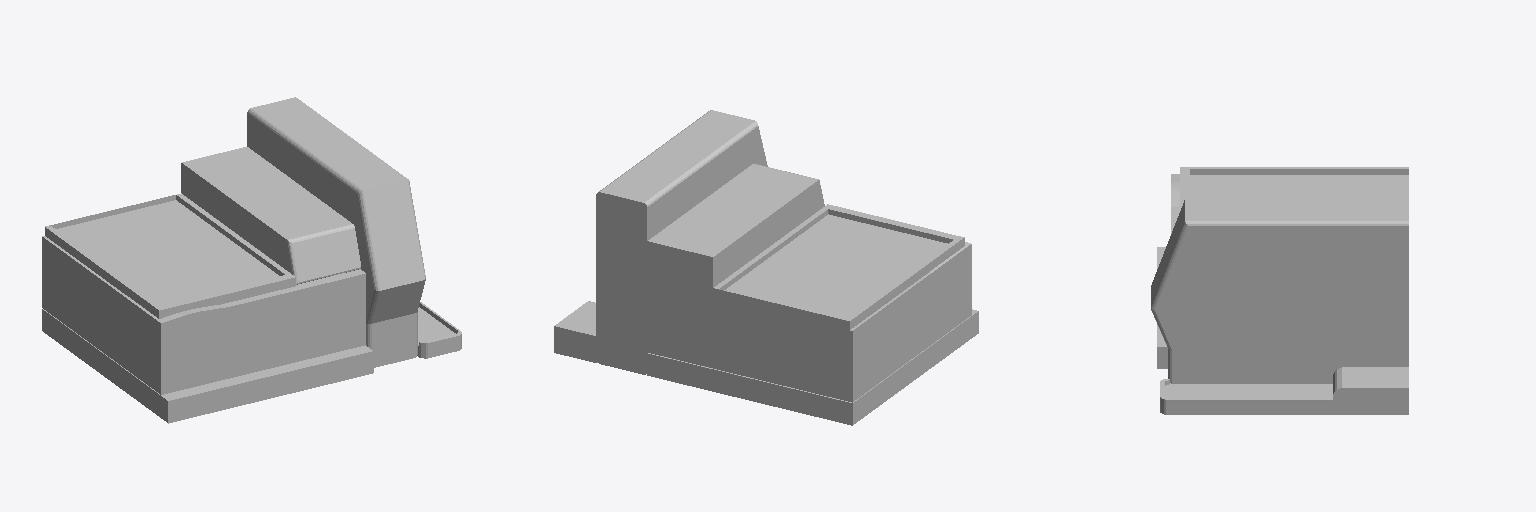
File: ADVIA Autoslide.obj
3 views of the same model, side by side, from view 1: azimuth 30°, elevation 25°; view 2: azimuth 150°, elevation 25°; view 3: azimuth 270°, elevation 25° (orthographic).
Parts seen in each view (by area): view 1: object1, object4, object3, object7, object5, object6, object2; view 2: object1, object4; view 3: object1, object6, object4, object7.
Boxes of the visible parts, x1,y1,x2,y2 form: object1: [42, 97, 461, 422]; object4: [45, 193, 295, 318]; object3: [161, 274, 365, 394]; object7: [363, 180, 423, 290]; object5: [168, 351, 373, 423]; object6: [372, 279, 455, 367]; object2: [292, 228, 360, 282]; object1: [554, 110, 978, 425]; object4: [713, 204, 964, 329]; object1: [1151, 174, 1408, 414]; object6: [1151, 309, 1408, 398]; object4: [1180, 167, 1408, 210]; object7: [1151, 200, 1184, 305].
Bounding box in the file's own units: 34.91 × 19.22 × 26.21.